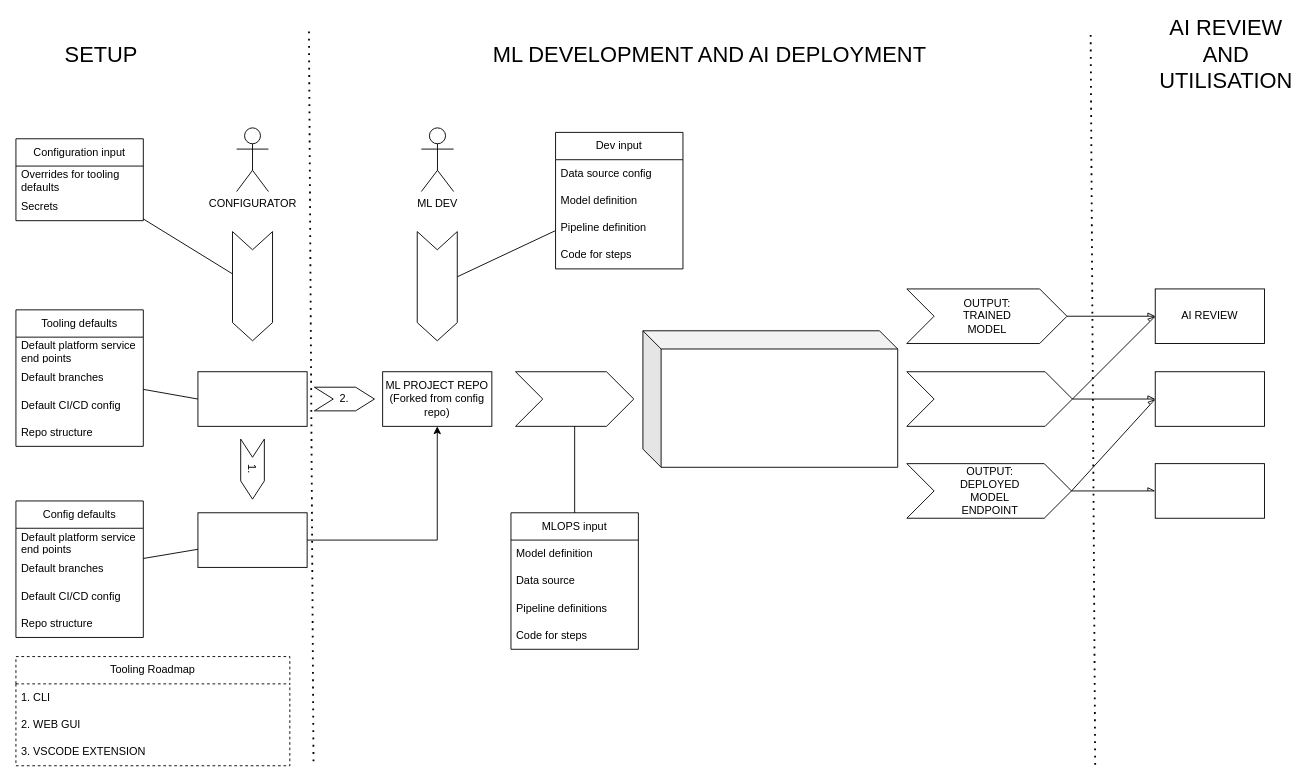
Image size: 1309x782. Some labels were removed from this diagram. Here are the shapes that lost their labels. From the top down, the centre of each, then its label:
At (252,398): "TOOLING".
At (574,398): "INPUT THROUGH CI/CD".
At (770,398): "MLOPS PLATFORM (Development branch local deployment and Staging&Prod in Pouta)".
At (989,398): "OUTPUT: PERFORMANCE INFORMATION".
At (1209,398): "AI MONITORING".
At (1209,490): "AI UTILISATION: INTEGRATION TO E.G. WEB APPLICATIONS".
At (252,539): "SEPARATE UPSTREAM CONFIG REPO".
